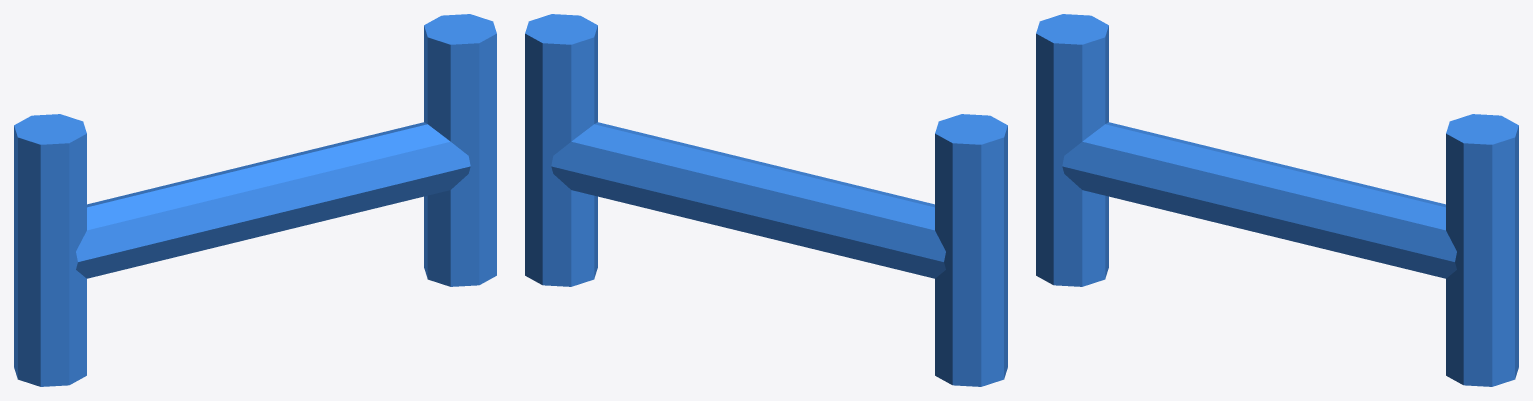
Rendered from AIStairs.fbx.
3 views of the same model, side by side, from view 1: azimuth 30°, elevation 25°; view 2: azimuth 150°, elevation 25°; view 3: azimuth 330°, elevation 25° (orthographic).
Visible parts, largest first — view 1: stairs; view 2: stairs; view 3: stairs.
Boxes of the visible parts, bbox=[...] form: stairs: bbox=[14, 14, 496, 386]; stairs: bbox=[525, 14, 1007, 386]; stairs: bbox=[1036, 14, 1518, 386].
Bounding box in the file's own units: 24.42 × 11.89 × 3.36.
